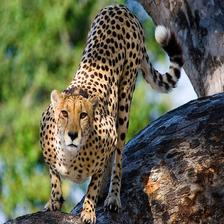Cheetah: (39, 0, 185, 224)
